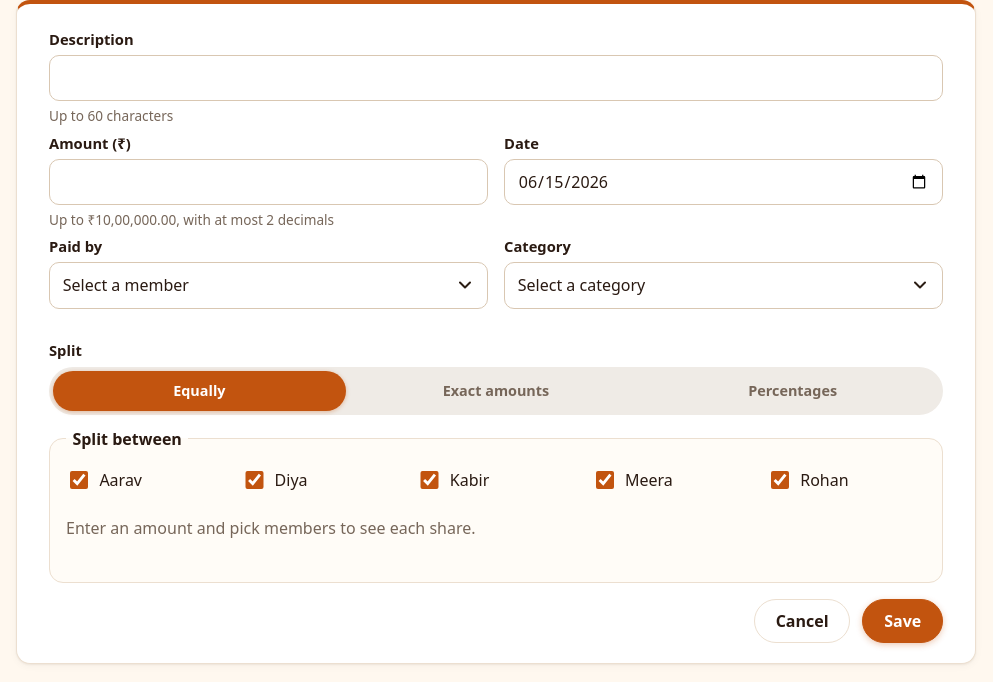
Test case: ExpenseForm › shows a field's error as soon as you leave it, and only that field's
This screenshot has width=993, height=682.
Click the field labelled "Description" at (496, 78), box [49,55,943,101]
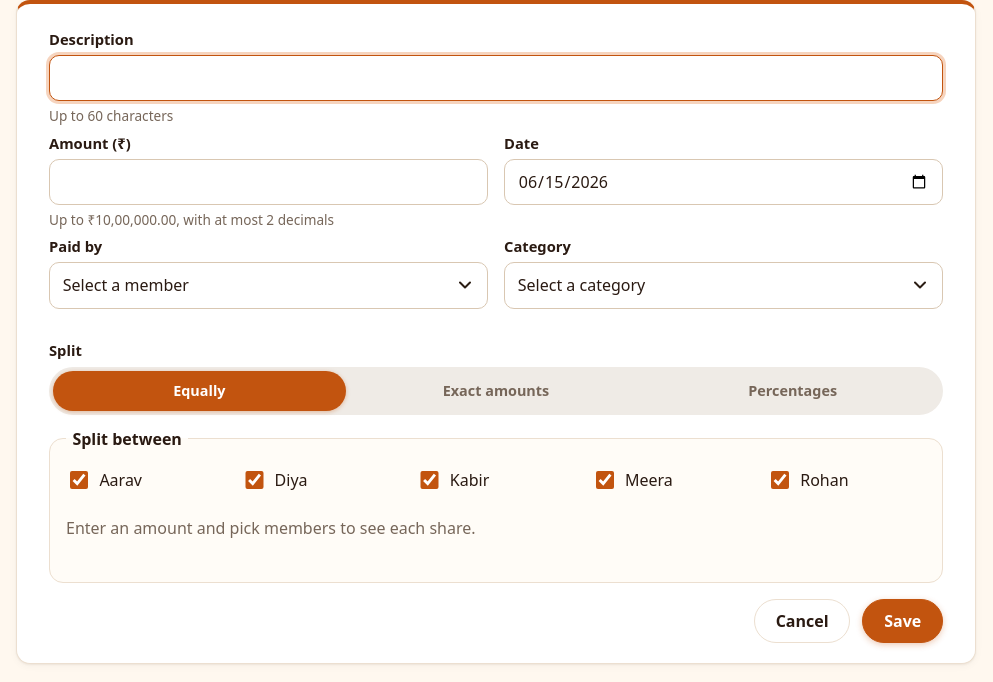
Expected: the text "Description is required" is not shown
Press Tab
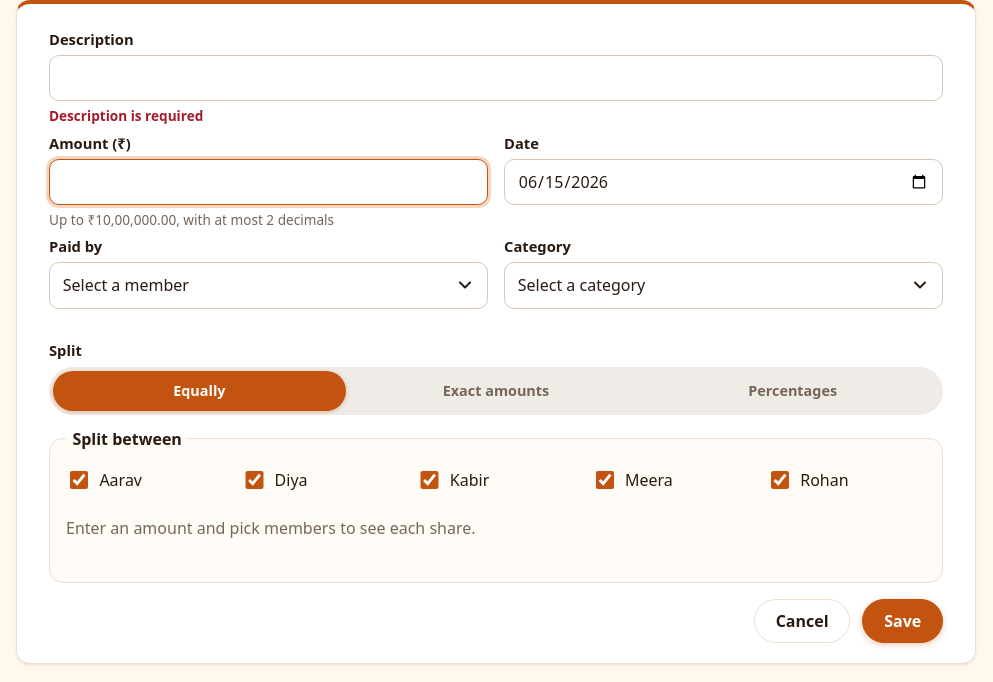
Result: the text "Description is required" is shown at [49,106,203,125]
